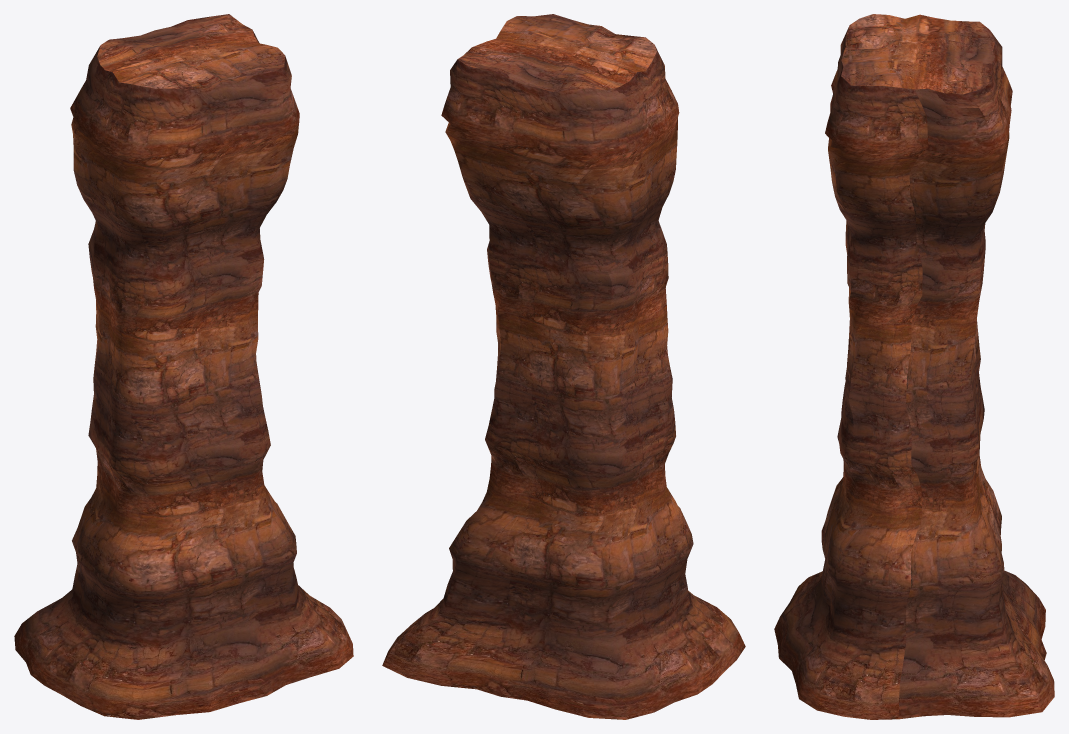
The model's file is canyon_pillar_a.glb.
The picture shows the model from 3 angles, left to right: view 1: azimuth 30°, elevation 25°; view 2: azimuth 150°, elevation 25°; view 3: azimuth 270°, elevation 25°; orthographic projection.
Parts seen in each view (by area): view 1: canyon_pillar_a; view 2: canyon_pillar_a; view 3: canyon_pillar_a.
Part boxes in pixels (x1,y1,x2,y2): canyon_pillar_a: (14, 14, 353, 719); canyon_pillar_a: (382, 14, 745, 719); canyon_pillar_a: (774, 14, 1054, 719).
Bounding box in the file's own units: 9.94 × 20.18 × 8.47.
Materials: 1 (1 with a texture image).
